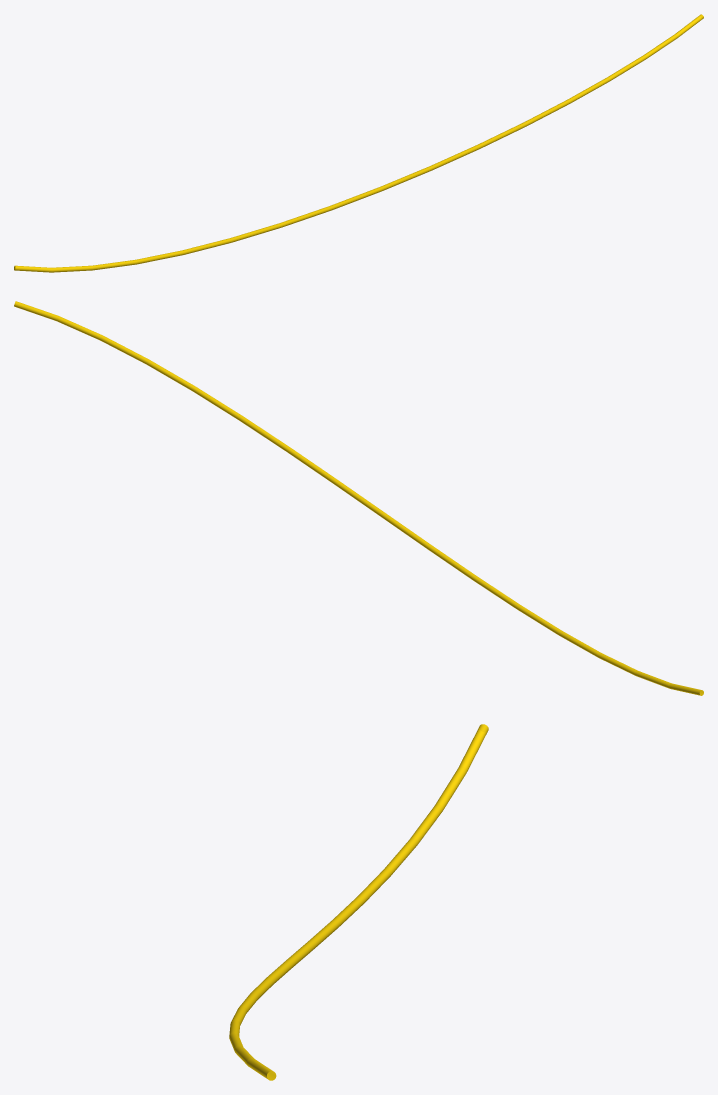
The model's file is Event_420107950_track_71.fbx.
3 renders of one model, top to bottom at view 1: azimuth 30°, elevation 25°; view 2: azimuth 150°, elevation 25°; view 3: azimuth 270°, elevation 25°, orthographic. The views are drawn at different scales.
Parts seen in each view (by area): view 1: Model; view 2: Model; view 3: Model.
Part boxes in pixels (<box>): Model: <box>14,14,703,272</box>; Model: <box>14,301,703,695</box>; Model: <box>229,724,488,1080</box>.
Size of the model in its own units: 5.98 by 1.33 by 1.06.
